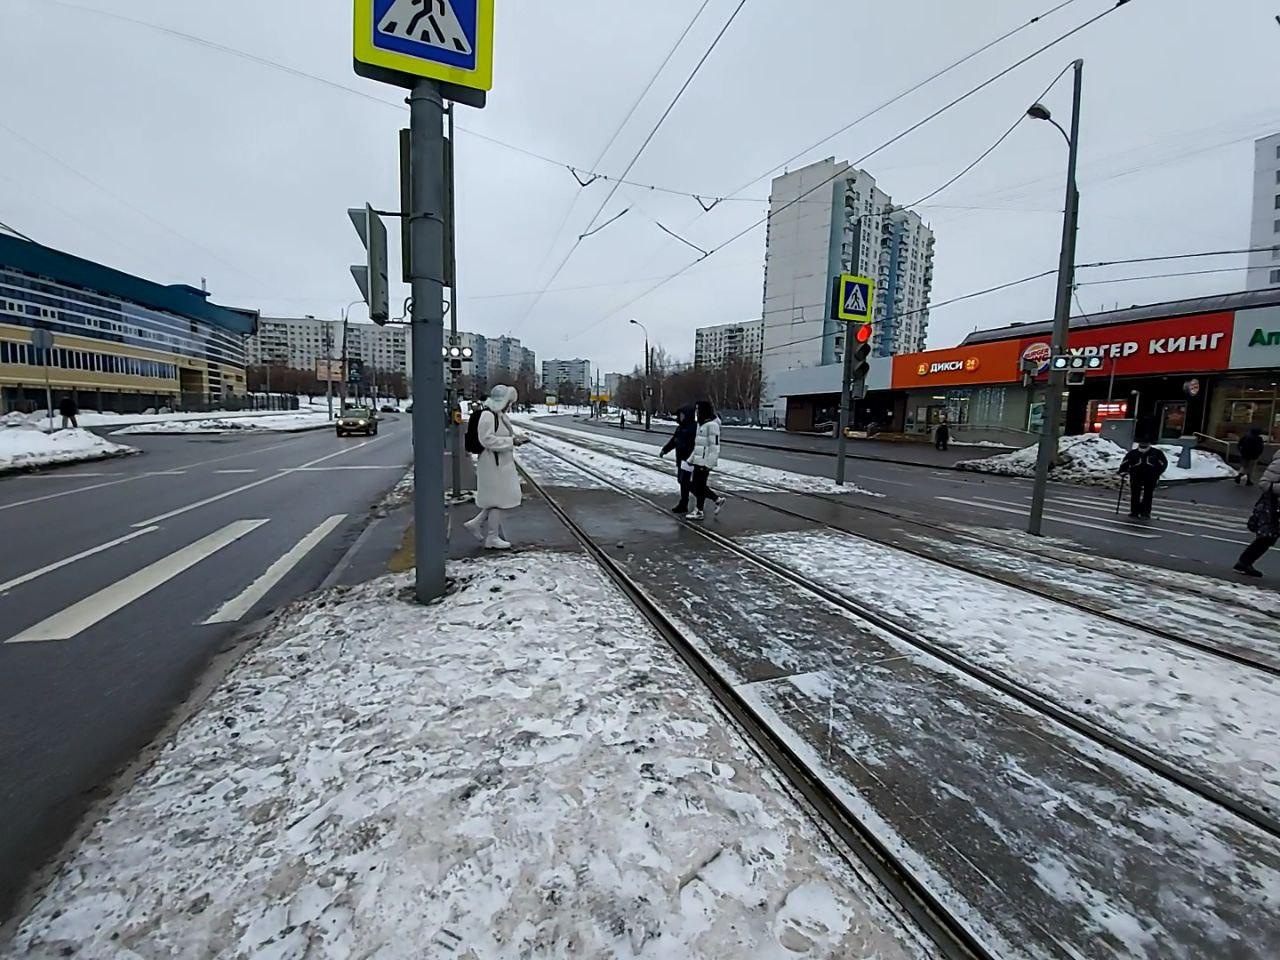sombie: (452, 366, 548, 567)
